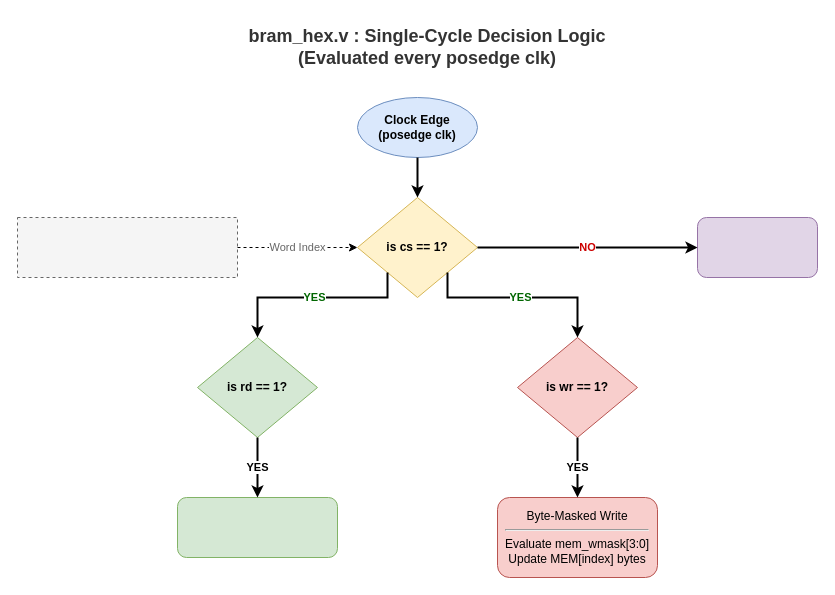
This 835x595 diagram has some shape labels left out. Here are the shapes that lost their labels. From the top down, the box of each, then its label:
(16, 216, 238, 278): Combinatorial Address Translation: index = mem_addr[...:2]
(696, 216, 818, 278): Do Nothing (Maintain State)
(176, 496, 338, 558): Output Word mem_rdata <= MEM[index]
